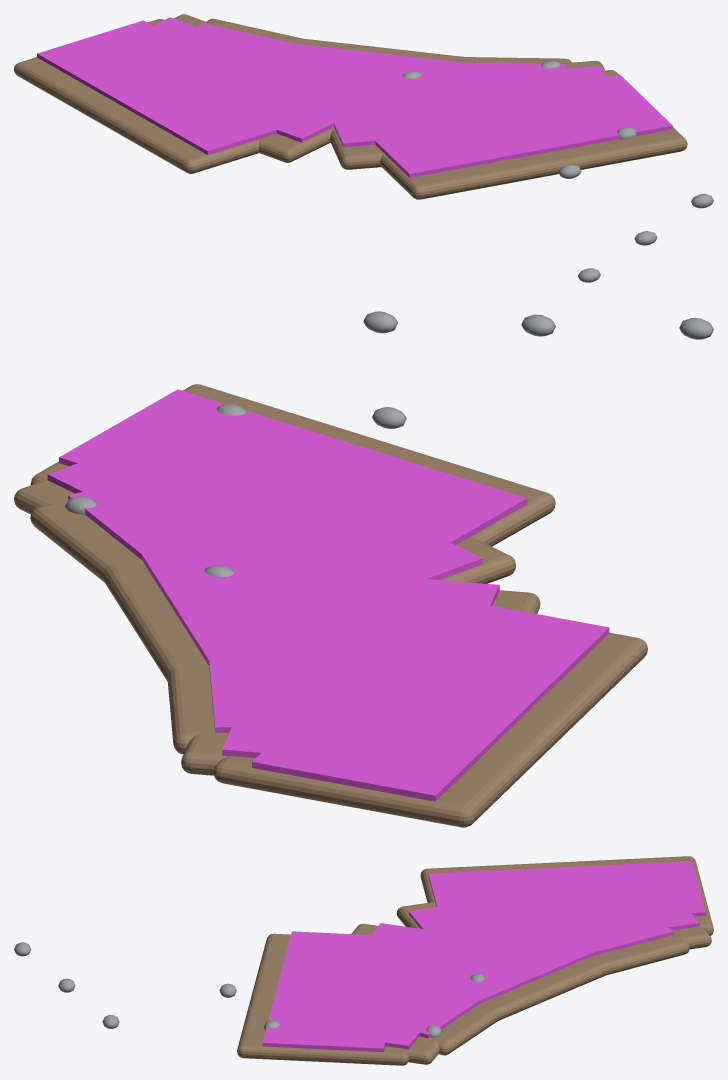
3 views of the same model, one above another, from view 1: azimuth 30°, elevation 25°; view 2: azimuth 150°, elevation 25°; view 3: azimuth 270°, elevation 25° (orthographic). The views are drawn at different scales.
Parts seen in each view (by area): view 1: NAV_MASK_FOREST_PATH_DIRT_CURVE_ARC_01, NAV_MASK_FOREST_PATH_DIRT_CURVE_ARC_03, NAV_MASK_FOREST_PATH_DIRT_CURVE_ARC_07, NAV_MASK_FOREST_PATH_DIRT_CURVE_ARC_02, NAV_MASK_FOREST_PATH_DIRT_CURVE_ARC_06, NAV_MASK_FOREST_PATH_DIRT_CURVE_ARC_04, LOD0_FOREST_PATH_DIRT_CURVE_Arc_01, NAV_MASK_FOREST_PATH_DIRT_CURVE_ARC_05, LOD0_FOREST_PATH_DIRT_CURVE_Arc_07, LOD0_FOREST_PATH_DIRT_CURVE_Arc_06, LOD0_FOREST_PATH_DIRT_CURVE_Arc_02, LOD0_FOREST_PATH_DIRT_CURVE_Arc_04 (+2 smaller); view 2: NAV_MASK_FOREST_PATH_DIRT_CURVE_ARC_03, NAV_MASK_FOREST_PATH_DIRT_CURVE_ARC_01, NAV_MASK_FOREST_PATH_DIRT_CURVE_ARC_07, NAV_MASK_FOREST_PATH_DIRT_CURVE_ARC_06, NAV_MASK_FOREST_PATH_DIRT_CURVE_ARC_04, LOD0_FOREST_PATH_DIRT_CURVE_Arc_07, NAV_MASK_FOREST_PATH_DIRT_CURVE_ARC_05, LOD0_FOREST_PATH_DIRT_CURVE_Arc_01, LOD0_FOREST_PATH_DIRT_CURVE_Arc_04, NAV_MASK_FOREST_PATH_DIRT_CURVE_ARC_02, LOD0_FOREST_PATH_DIRT_CURVE_Arc_03, LOD0_FOREST_PATH_DIRT_CURVE_Arc_05 (+2 smaller); view 3: NAV_MASK_FOREST_PATH_DIRT_CURVE_ARC_01, NAV_MASK_FOREST_PATH_DIRT_CURVE_ARC_06, NAV_MASK_FOREST_PATH_DIRT_CURVE_ARC_05, NAV_MASK_FOREST_PATH_DIRT_CURVE_ARC_02, NAV_MASK_FOREST_PATH_DIRT_CURVE_ARC_07, NAV_MASK_FOREST_PATH_DIRT_CURVE_ARC_04, NAV_MASK_FOREST_PATH_DIRT_CURVE_ARC_03, LOD0_FOREST_PATH_DIRT_CURVE_Arc_01, LOD0_FOREST_PATH_DIRT_CURVE_Arc_04, LOD0_FOREST_PATH_DIRT_CURVE_Arc_07, LOD0_FOREST_PATH_DIRT_CURVE_Arc_03, LOD0_FOREST_PATH_DIRT_CURVE_Arc_05 (+2 smaller).
Boxes of the visible parts, bbox=[...] form: NAV_MASK_FOREST_PATH_DIRT_CURVE_ARC_01: bbox=[357, 74, 672, 177]; NAV_MASK_FOREST_PATH_DIRT_CURVE_ARC_03: bbox=[274, 59, 565, 116]; NAV_MASK_FOREST_PATH_DIRT_CURVE_ARC_07: bbox=[37, 20, 312, 154]; NAV_MASK_FOREST_PATH_DIRT_CURVE_ARC_02: bbox=[319, 66, 624, 147]; NAV_MASK_FOREST_PATH_DIRT_CURVE_ARC_06: bbox=[84, 17, 353, 142]; NAV_MASK_FOREST_PATH_DIRT_CURVE_ARC_04: bbox=[205, 37, 484, 106]; LOD0_FOREST_PATH_DIRT_CURVE_Arc_01: bbox=[380, 70, 687, 199]; NAV_MASK_FOREST_PATH_DIRT_CURVE_ARC_05: bbox=[142, 23, 454, 117]; LOD0_FOREST_PATH_DIRT_CURVE_Arc_07: bbox=[14, 19, 259, 173]; LOD0_FOREST_PATH_DIRT_CURVE_Arc_06: bbox=[174, 14, 330, 162]; LOD0_FOREST_PATH_DIRT_CURVE_Arc_02: bbox=[330, 60, 604, 169]; LOD0_FOREST_PATH_DIRT_CURVE_Arc_04: bbox=[250, 33, 508, 62]; NAV_MASK_FOREST_PATH_DIRT_CURVE_ARC_03: bbox=[68, 456, 447, 657]; NAV_MASK_FOREST_PATH_DIRT_CURVE_ARC_01: bbox=[59, 389, 527, 566]; NAV_MASK_FOREST_PATH_DIRT_CURVE_ARC_07: bbox=[252, 605, 609, 801]; NAV_MASK_FOREST_PATH_DIRT_CURVE_ARC_06: bbox=[222, 575, 499, 765]; NAV_MASK_FOREST_PATH_DIRT_CURVE_ARC_04: bbox=[131, 537, 424, 695]; LOD0_FOREST_PATH_DIRT_CURVE_Arc_07: bbox=[213, 632, 647, 827]; NAV_MASK_FOREST_PATH_DIRT_CURVE_ARC_05: bbox=[199, 541, 414, 732]; LOD0_FOREST_PATH_DIRT_CURVE_Arc_01: bbox=[30, 384, 555, 546]; LOD0_FOREST_PATH_DIRT_CURVE_Arc_04: bbox=[91, 527, 212, 704]; NAV_MASK_FOREST_PATH_DIRT_CURVE_ARC_02: bbox=[47, 419, 482, 612]; LOD0_FOREST_PATH_DIRT_CURVE_Arc_03: bbox=[30, 504, 176, 615]; LOD0_FOREST_PATH_DIRT_CURVE_Arc_05: bbox=[167, 613, 214, 754]; NAV_MASK_FOREST_PATH_DIRT_CURVE_ARC_01: bbox=[262, 931, 413, 1052]; NAV_MASK_FOREST_PATH_DIRT_CURVE_ARC_06: bbox=[409, 874, 699, 959]; NAV_MASK_FOREST_PATH_DIRT_CURVE_ARC_05: bbox=[397, 887, 673, 990]; NAV_MASK_FOREST_PATH_DIRT_CURVE_ARC_02: bbox=[295, 923, 495, 1049]; NAV_MASK_FOREST_PATH_DIRT_CURVE_ARC_07: bbox=[428, 861, 705, 922]; NAV_MASK_FOREST_PATH_DIRT_CURVE_ARC_04: bbox=[356, 900, 610, 1014]; NAV_MASK_FOREST_PATH_DIRT_CURVE_ARC_03: bbox=[339, 913, 536, 1038]; LOD0_FOREST_PATH_DIRT_CURVE_Arc_01: bbox=[237, 933, 409, 1065]; LOD0_FOREST_PATH_DIRT_CURVE_Arc_04: bbox=[454, 944, 641, 1024]; LOD0_FOREST_PATH_DIRT_CURVE_Arc_07: bbox=[420, 856, 713, 935]; LOD0_FOREST_PATH_DIRT_CURVE_Arc_03: bbox=[429, 980, 536, 1055]; LOD0_FOREST_PATH_DIRT_CURVE_Arc_05: bbox=[563, 936, 689, 974].
Size of what is drawn, in the model's own units: 5.5 by 0.24 by 8.07.
